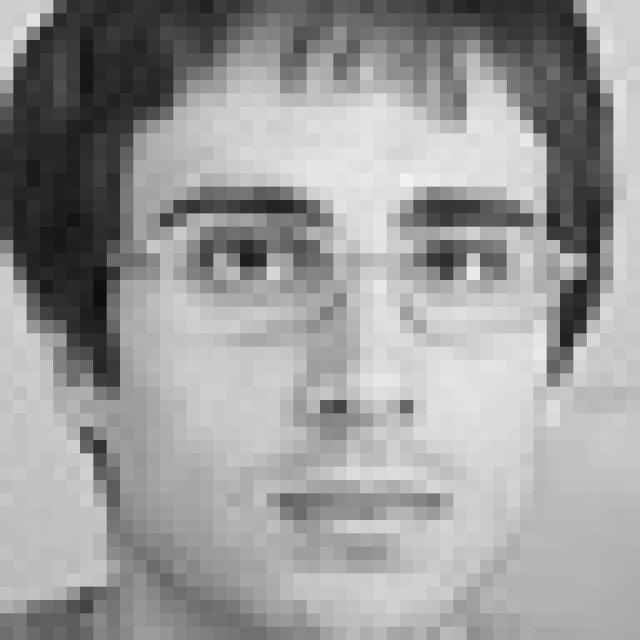neutral: (147, 171, 539, 571)
